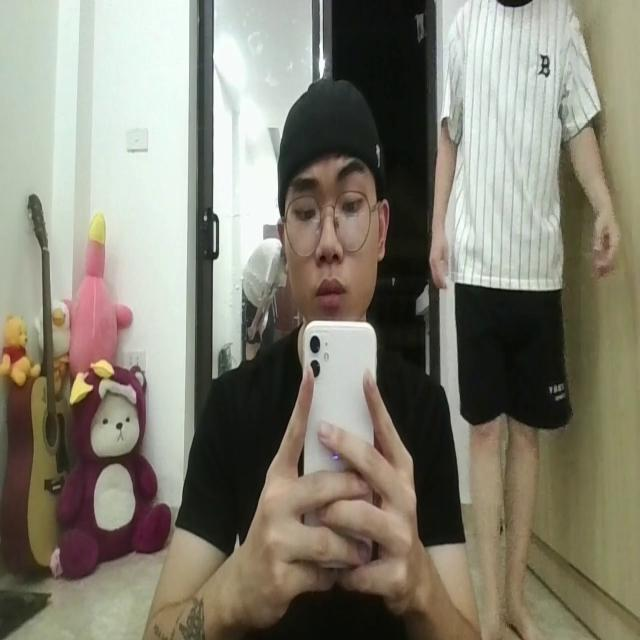extra_person: (429, 1, 623, 640)
phone: (304, 309, 378, 573)
student: (150, 66, 477, 640)
